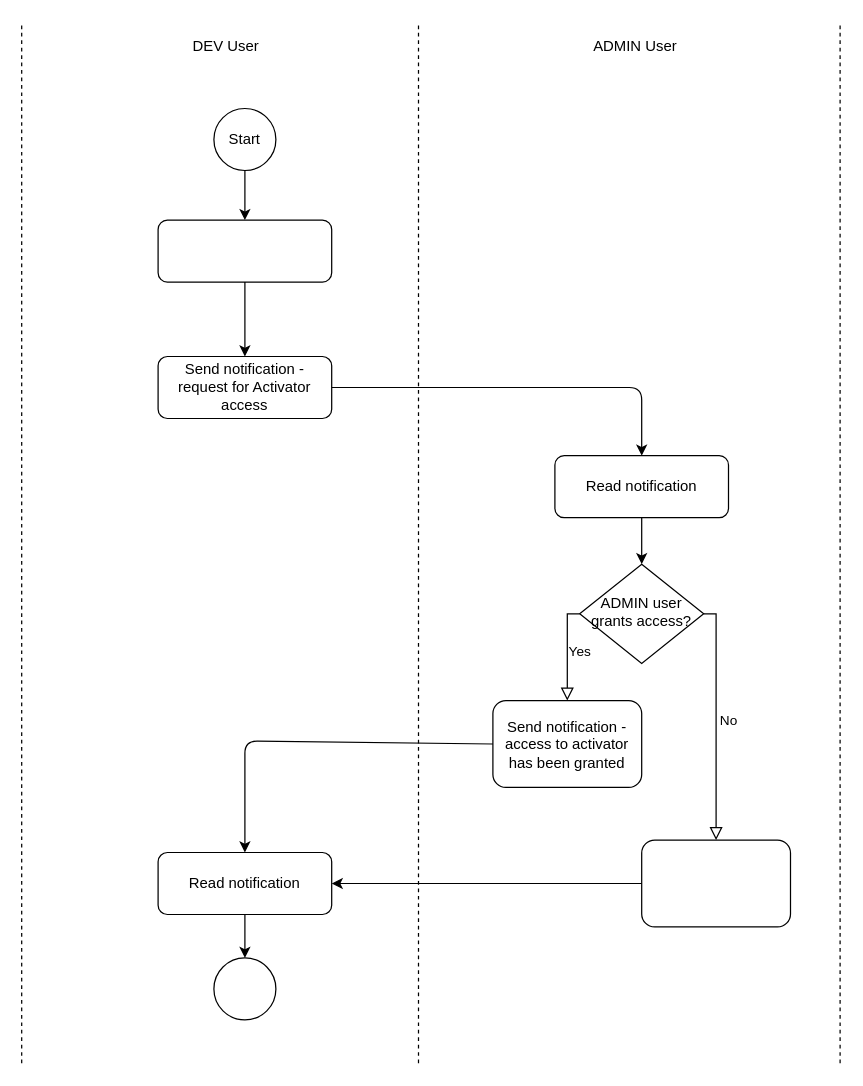
Image size: 863x1086. Some labels were removed from this diagram. The shapes that lost their labels are listed below. From the top down, each one's centre as x and y in pixels, then its label:
At (244,250): "DEV user requests access to an Activator".
At (715,883): "Send notification - access to activator has been declined".
At (244,988): "End".
